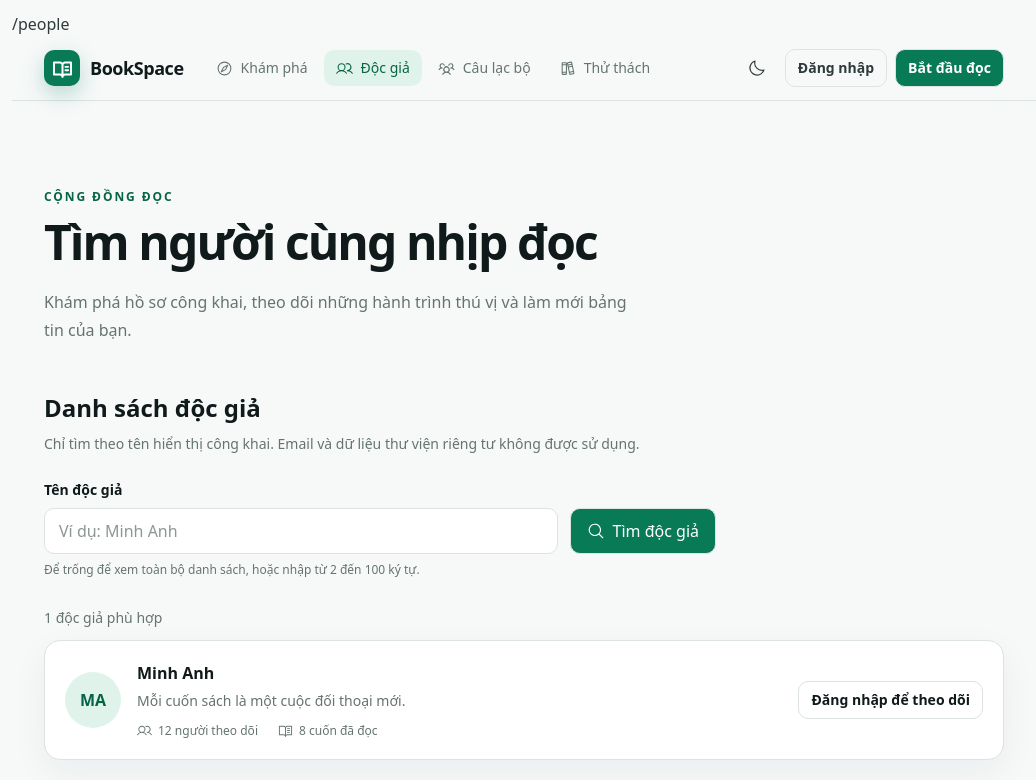
Test: production people route › exposes conditional validation relationships on the search input
The image size is (1036, 780).
Type "a" into the field labelled "Tên độc giả".
click(301, 531); type("a")  # box [44, 508, 558, 554]
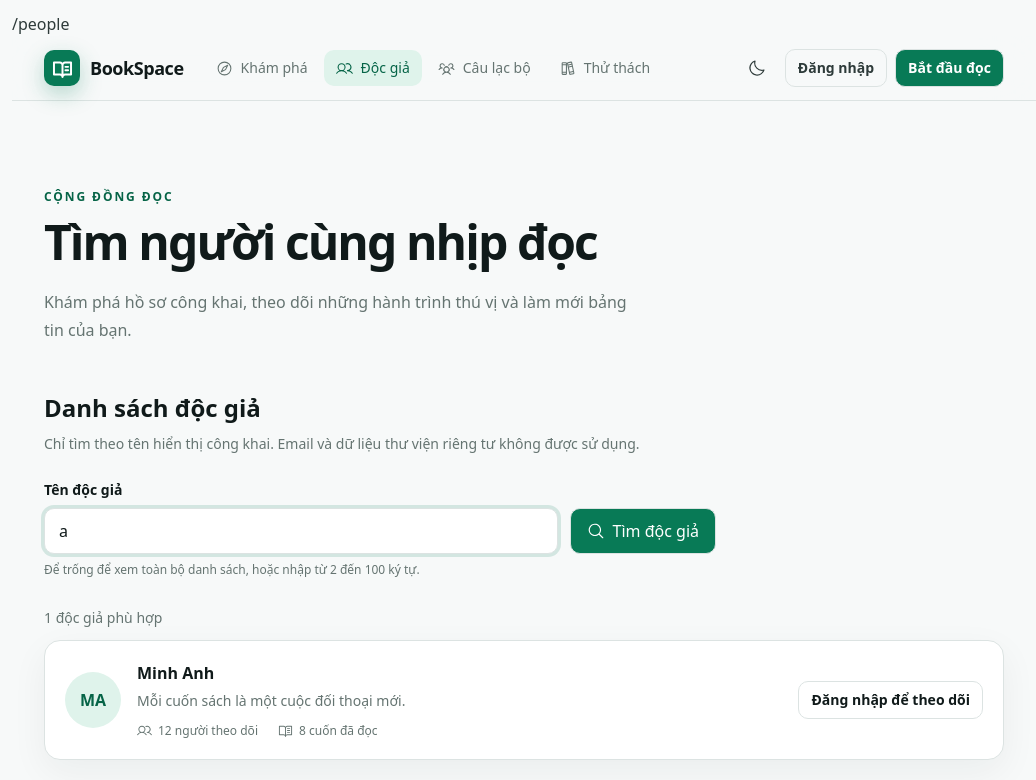
Click the button "Tìm độc giả".
click(643, 531)  # box [570, 508, 716, 554]
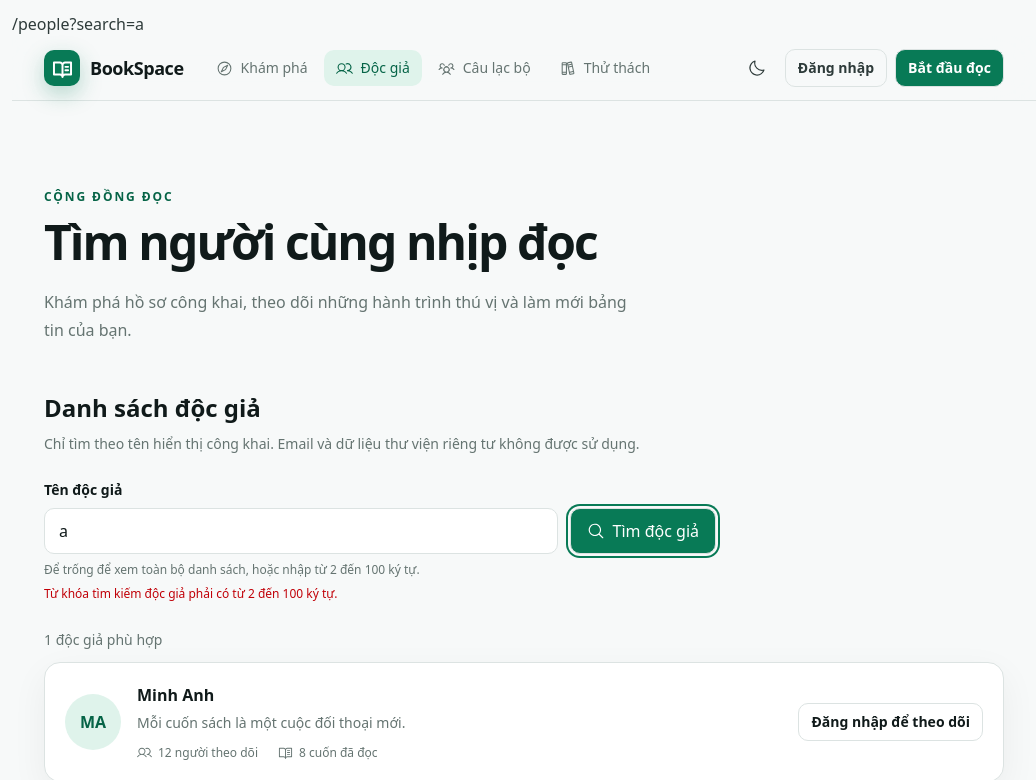
Result: the message shows "2 đến 100 ký tự" at [44, 585, 338, 602]
